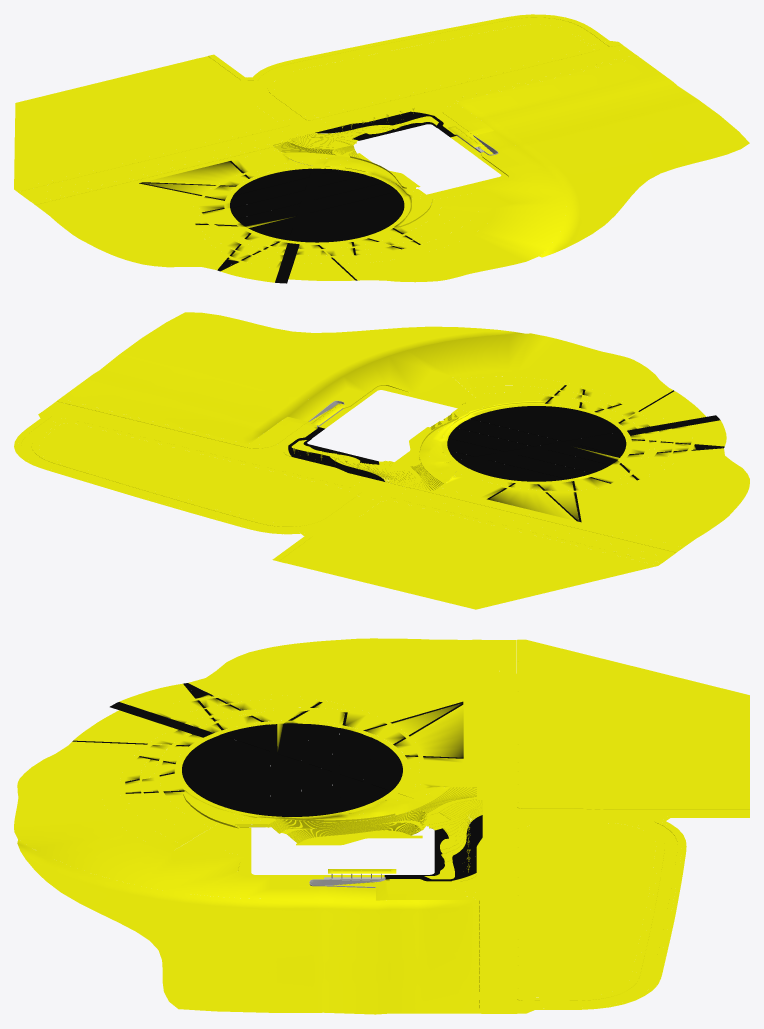
The model's file is sm_hana_ground_001.glb.
3 renders of one model, top to bottom at view 1: azimuth 30°, elevation 25°; view 2: azimuth 150°, elevation 25°; view 3: azimuth 270°, elevation 25°, orthographic. The views are drawn at different scales.
Visible parts, largest first — view 1: sm_hana_ground_001; view 2: sm_hana_ground_001; view 3: sm_hana_ground_001.
Part boxes in pixels (box(x1,y1,x2,y2)): sm_hana_ground_001: box(14, 14, 749, 283); sm_hana_ground_001: box(14, 312, 749, 609); sm_hana_ground_001: box(14, 638, 749, 1014).
Size of the model in its own units: 471 by 10.77 by 390.
Materials: 15 (13 with a texture image).
